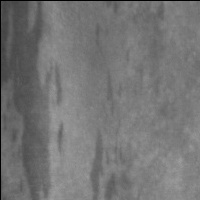inclusion: (2, 2, 65, 200), (116, 2, 168, 97), (89, 126, 134, 200), (101, 68, 120, 118), (91, 20, 108, 59)
